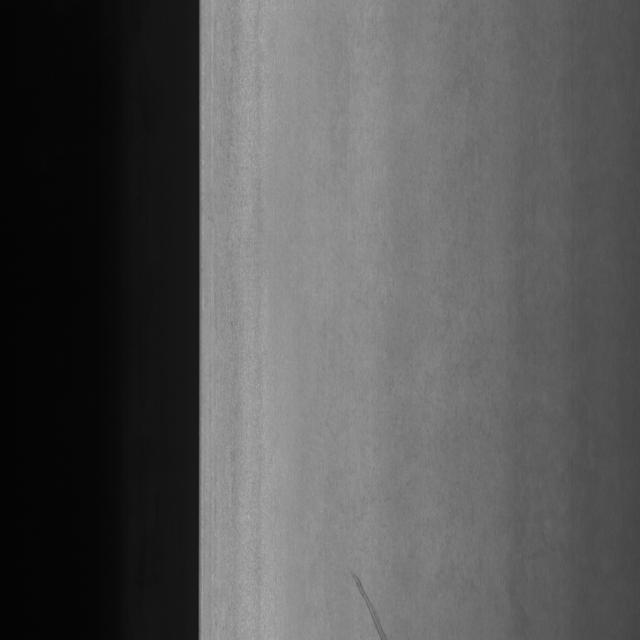water_spot: (342, 548, 390, 639)
